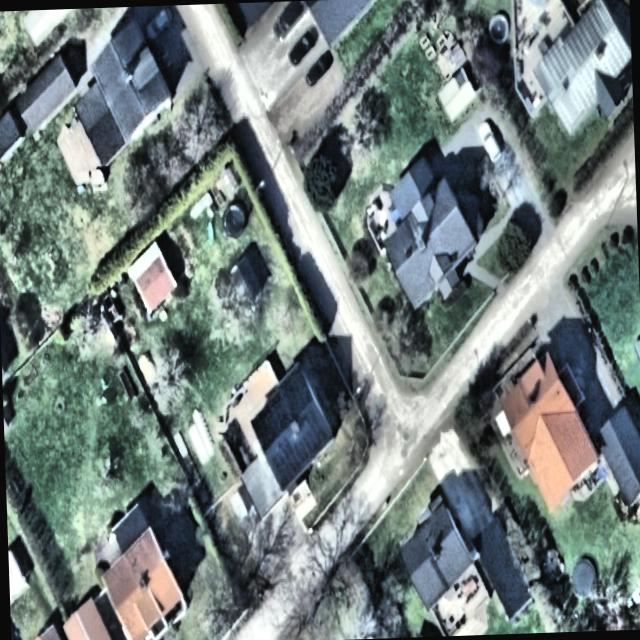roof_pv: (296, 404, 332, 466), (264, 432, 300, 488)
